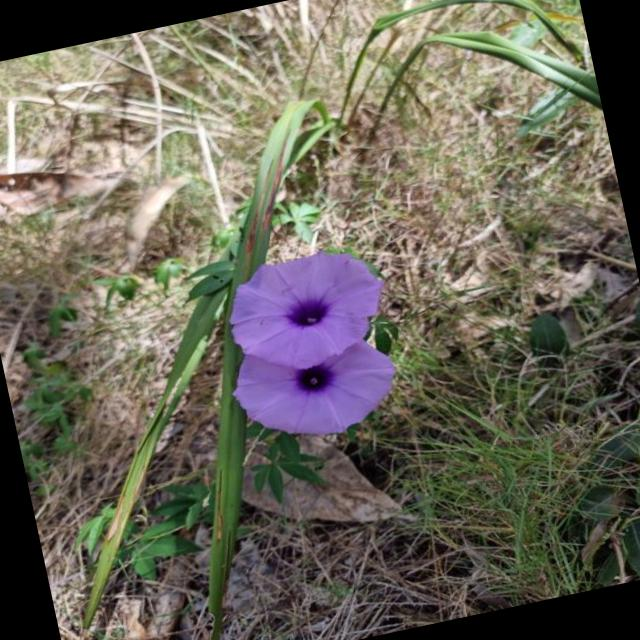ipomoea: (213, 237, 400, 385), (220, 322, 410, 456)
